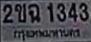1: (46, 2, 52, 21)
2: (2, 4, 12, 22)
3: (56, 2, 65, 21), (79, 2, 88, 20)
4: (68, 2, 77, 21)
A02: (14, 3, 26, 22)
A09: (28, 3, 40, 22)
BKK: (12, 27, 81, 42)
